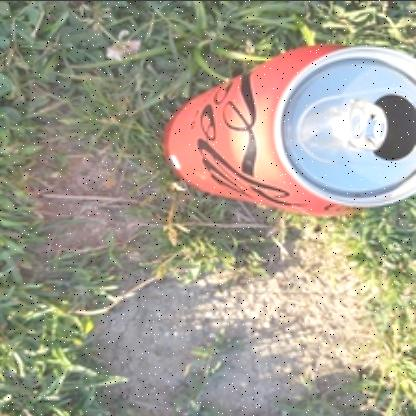Can: (162, 42, 416, 214)
